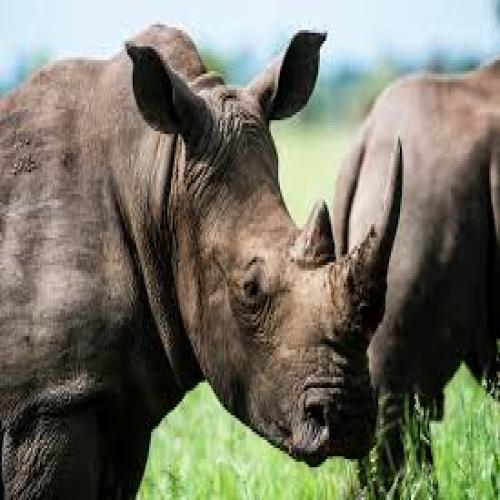rhino-endangered: (0, 25, 404, 495), (328, 62, 499, 500)
